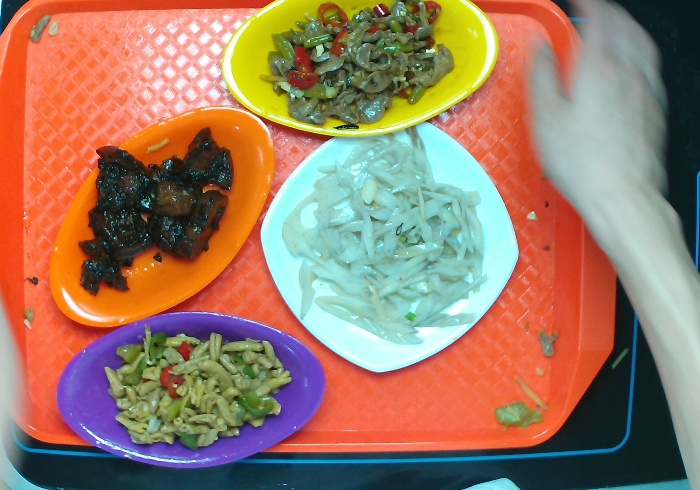RJxy-Fen_Hong_Tuo_Yuan: (53, 307, 331, 475)
RJxy-Huang_Se_Tuo_Yuan: (217, 1, 507, 141)
RJxy-Ju_Huang_Tuo_Yuan: (43, 99, 278, 333)
RJxy-Si_Fang_Die: (257, 120, 526, 377)
